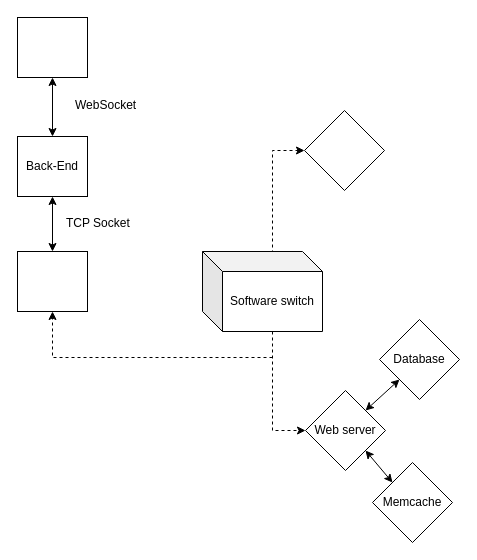
This 477x560 diagram has some shape labels left out. The shapes that lost their labels are listed below. From the top down, each one's centre as x and y in pixels, then its label:
the point at 52,47: Front-End
the point at 344,150: Client
the point at 52,281: Sniffer
